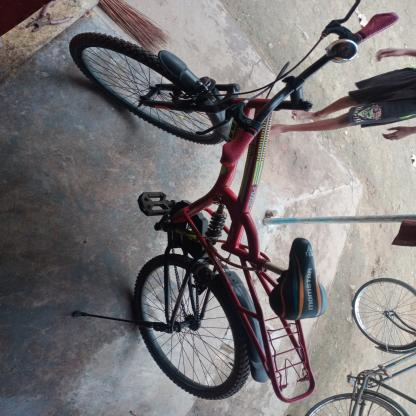bicycle: (36, 4, 348, 414)
